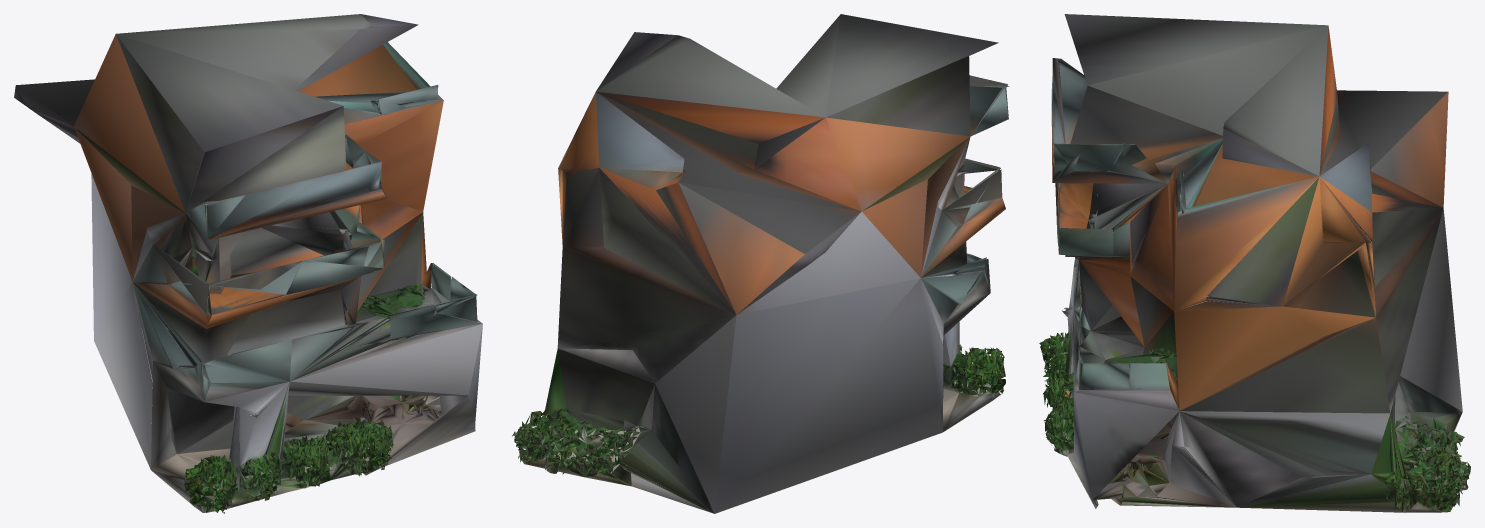
Rendered from World11f82c914a.glb.
3 views of the same model, side by side, from view 1: azimuth 30°, elevation 25°; view 2: azimuth 150°, elevation 25°; view 3: azimuth 270°, elevation 25° (orthographic). The views are drawn at different scales.
Visible parts, largest first — view 1: World11f82c914a; view 2: World11f82c914a; view 3: World11f82c914a.
Part boxes in pixels (left/top/right/bottom): World11f82c914a: left=14, top=14, right=482, bottom=513; World11f82c914a: left=512, top=14, right=1009, bottom=513; World11f82c914a: left=1039, top=14, right=1470, bottom=512.
Bounding box in the file's own units: 5.92 × 6.59 × 7.01.
1 material, 1 textured.
